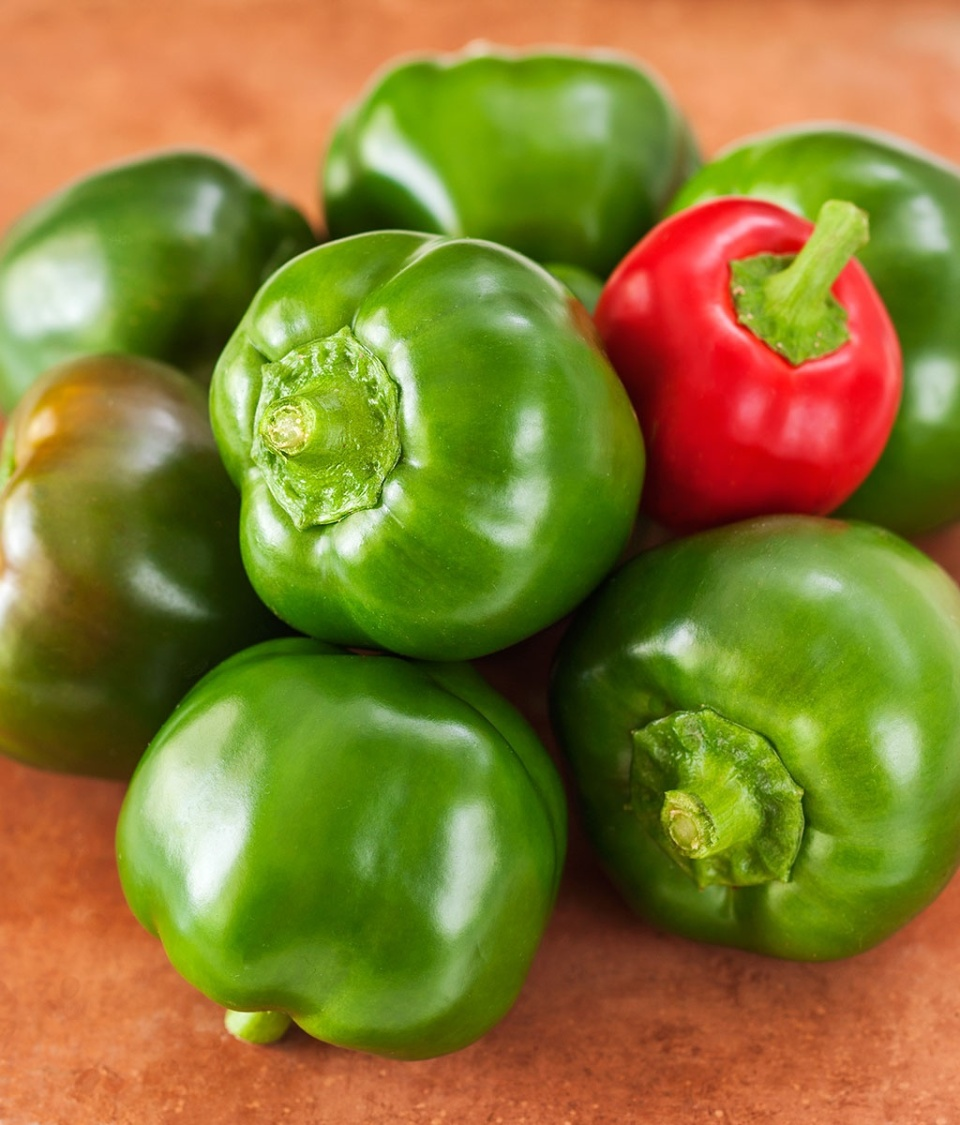fruit: (112, 632, 570, 1064), (208, 224, 647, 665), (545, 510, 960, 968), (658, 121, 960, 548), (1, 348, 274, 784), (593, 193, 906, 539), (322, 41, 707, 261), (0, 149, 310, 418)
pedicle: (625, 703, 808, 899), (247, 322, 404, 534), (727, 249, 850, 370)
